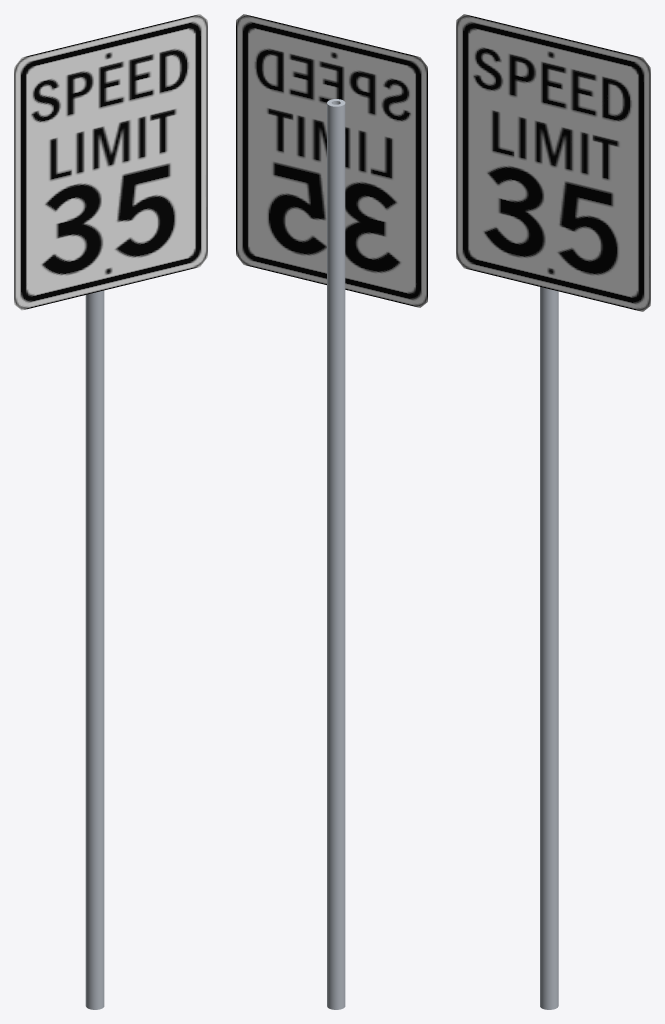
Rendered from SpeedLimitSign.fbx.
The picture shows the model from 3 angles, left to right: view 1: azimuth 30°, elevation 25°; view 2: azimuth 150°, elevation 25°; view 3: azimuth 330°, elevation 25°; orthographic projection.
Visible parts, largest first — view 1: Group1, Group2; view 2: Group1, Group2; view 3: Group1, Group2.
Boxes of the visible parts, x1=… form: Group1: x1=14, y1=14, x2=207, y2=310; Group2: x1=85, y1=290, x2=104, y2=1009; Group1: x1=236, y1=14, x2=427, y2=307; Group2: x1=327, y1=99, x2=345, y2=1009; Group1: x1=456, y1=14, x2=650, y2=311; Group2: x1=540, y1=287, x2=558, y2=1009.
Size of the model in its own units: 0.6096 by 2.93 by 0.0571.
